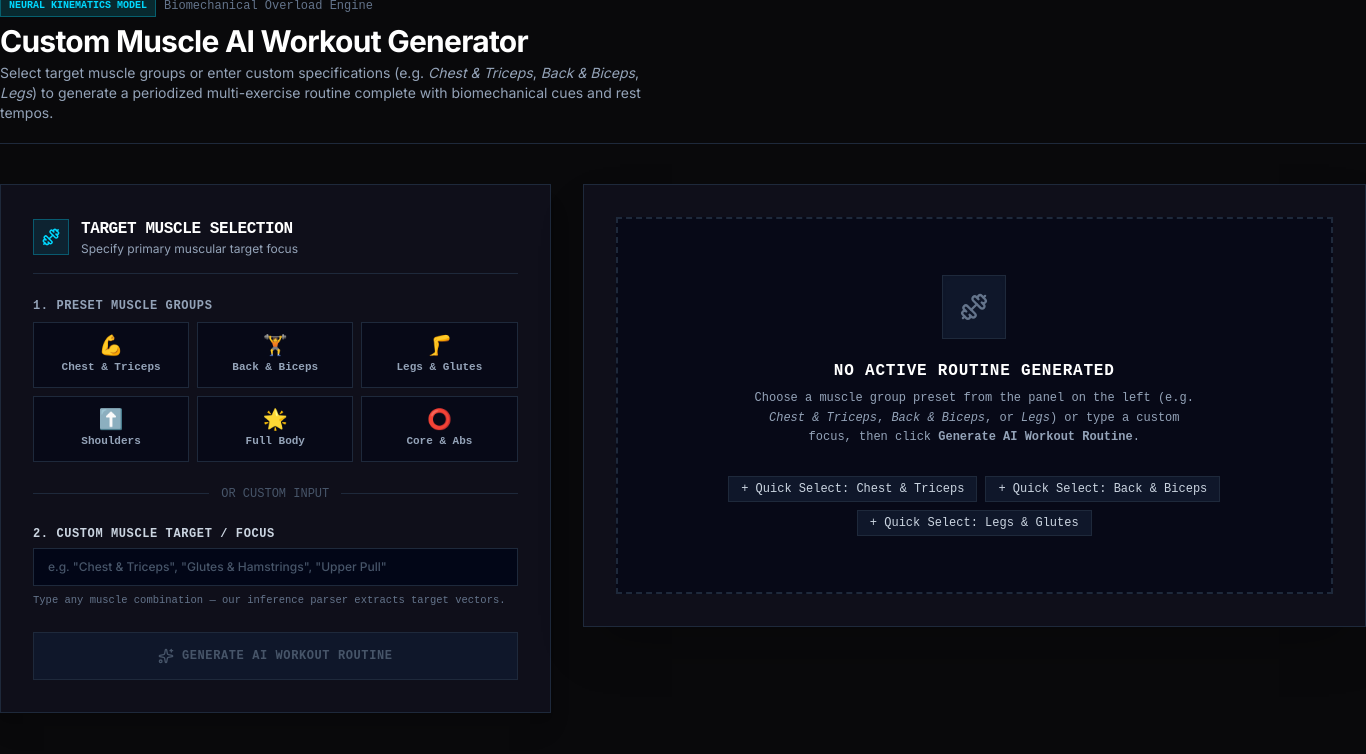
Scenario: WorkoutGenerator Component › allows checking off exercises and updates the completion percentage
Click the button "💪 Chest & Triceps" at coordinates (111, 355), box top-left (33, 322), bottom-right (189, 388)
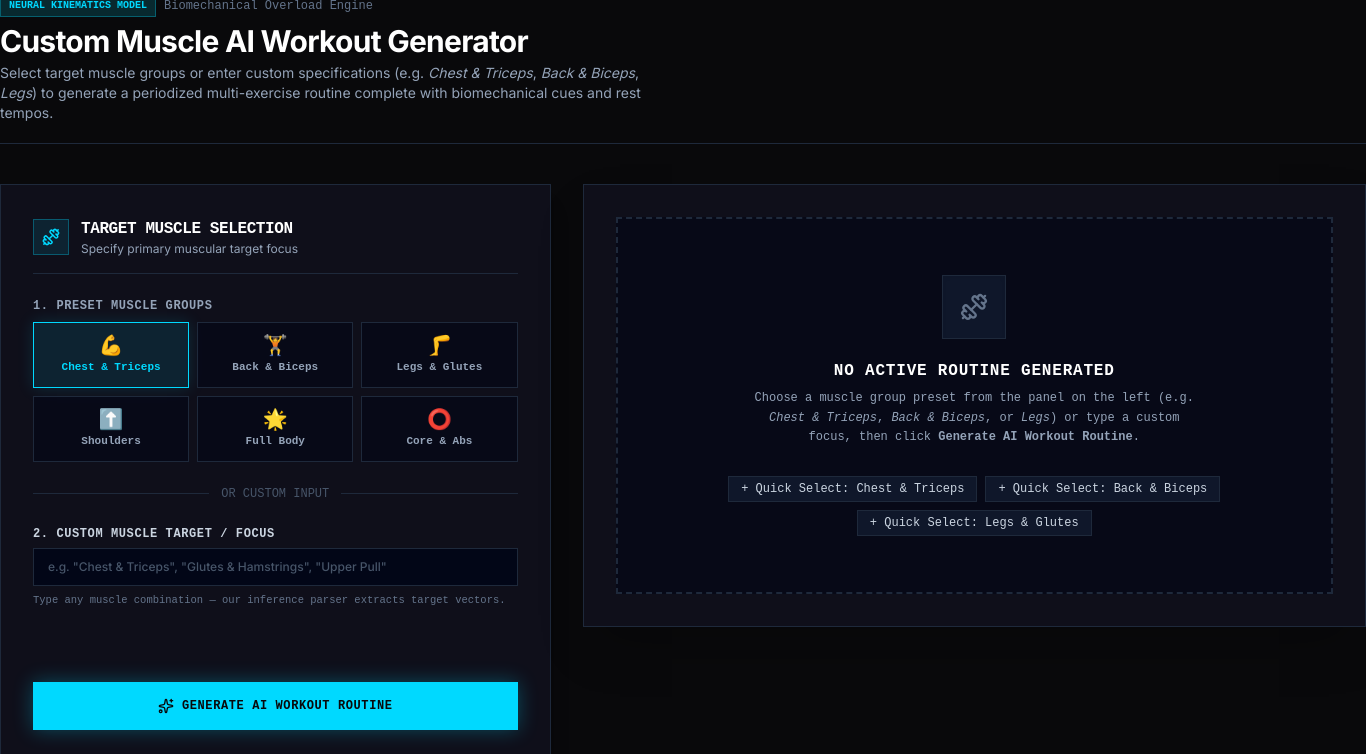
Click the button "Generate AI Workout Routine" at coordinates (275, 706), box top-left (33, 682), bottom-right (518, 730)
Wait 3000 ms
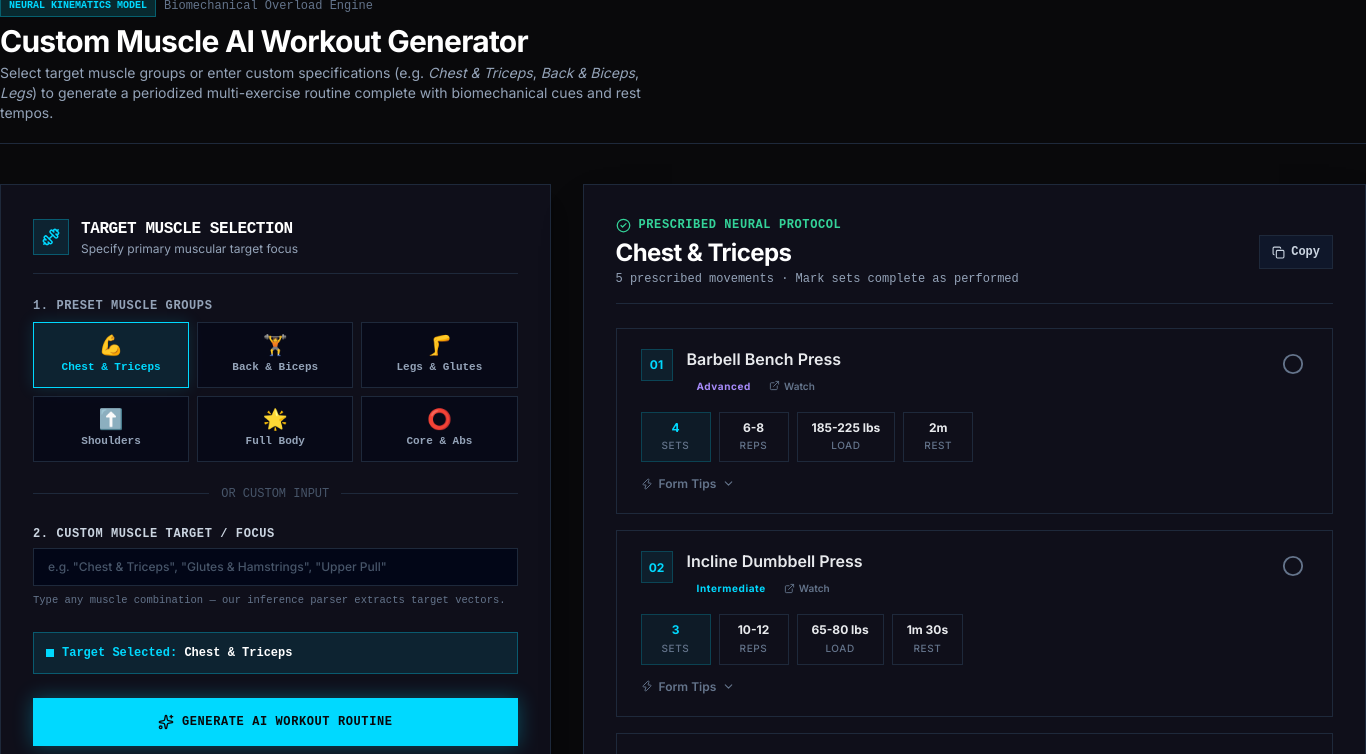
Note: Toggle completion on the first exercise
Click the button named "Mark Barbell Bench Press complete" at coordinates (1293, 364), box top-left (1278, 349), bottom-right (1308, 379)
(page scrolled)
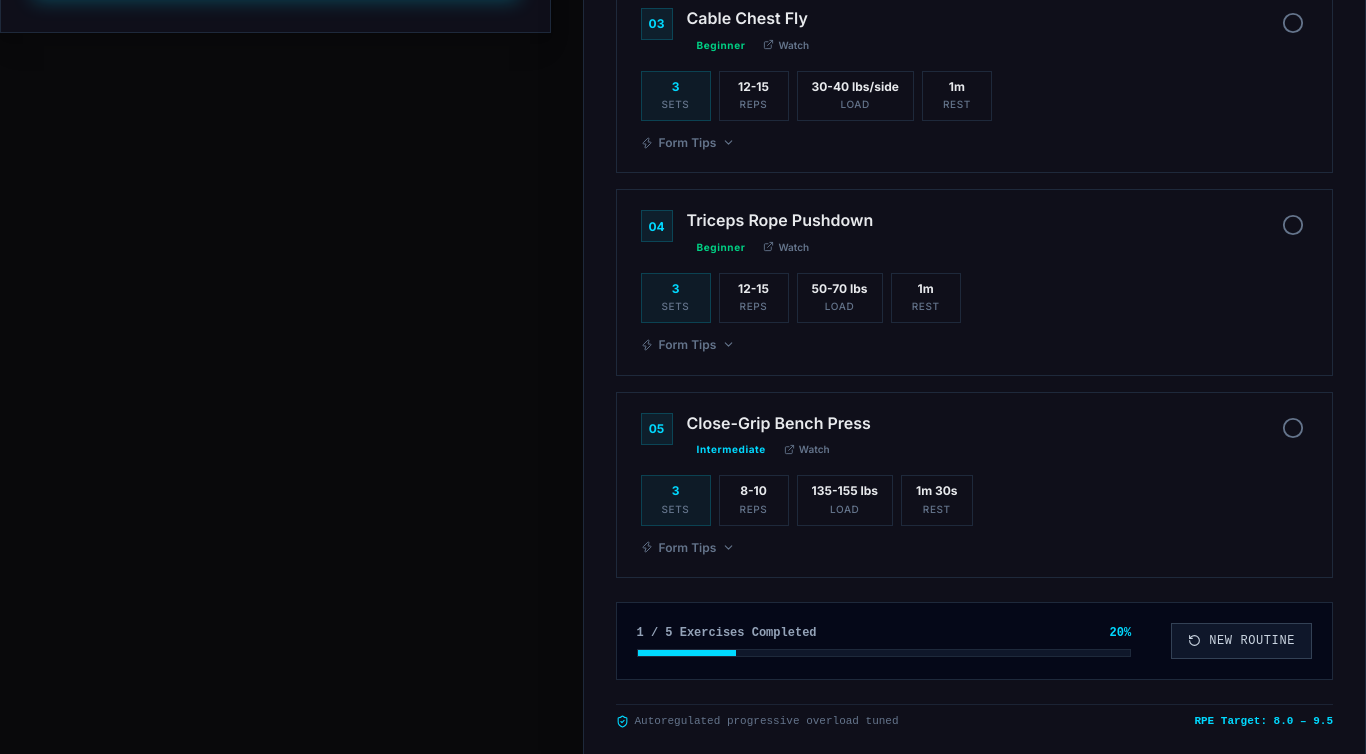
Result: the text "1 / 5 Exercises Completed" is shown at top-left (636, 625), bottom-right (816, 641)
Result: the text "20%" is shown at top-left (1110, 625), bottom-right (1131, 641)
